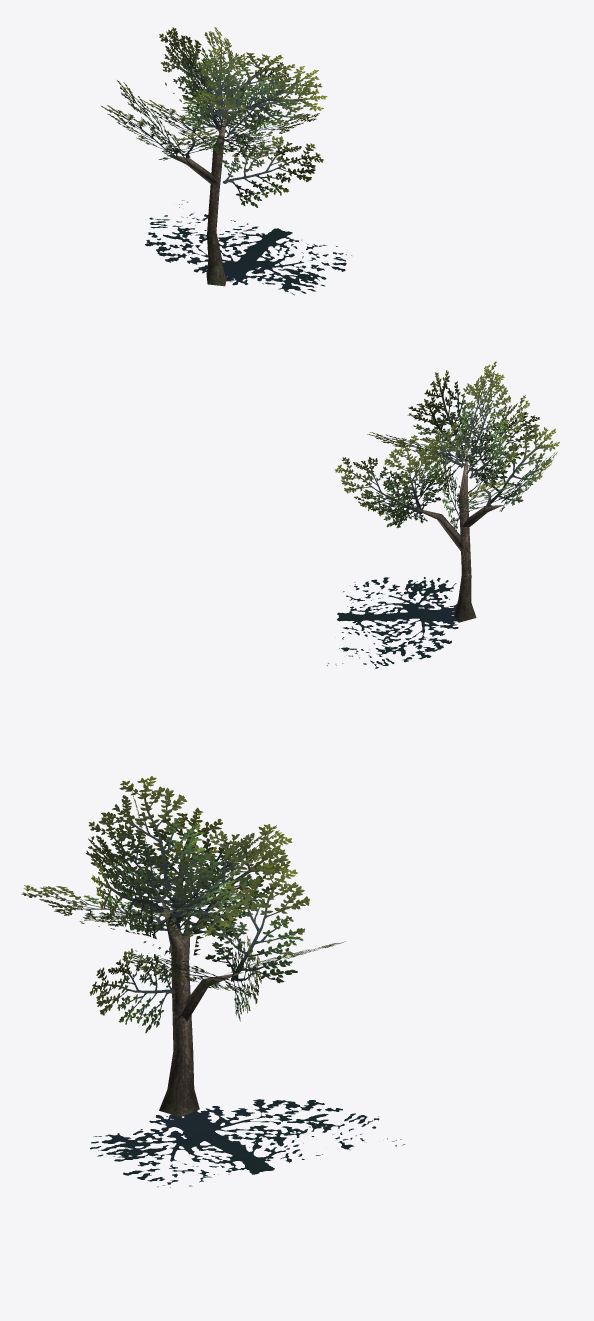
The model's file is Bf_hill_landscacp_01_addTree_01.fbx.
3 renders of one model, top to bottom at view 1: azimuth 30°, elevation 25°; view 2: azimuth 150°, elevation 25°; view 3: azimuth 270°, elevation 25°, orthographic. The views are drawn at different scales.
Parts seen in each view (by area): view 1: Bf_hill_landscacp_01_addTree_01; view 2: Bf_hill_landscacp_01_addTree_01; view 3: Bf_hill_landscacp_01_addTree_01.
Boxes of the visible parts, left/top/right/bottom form: Bf_hill_landscacp_01_addTree_01: left=101, top=27, right=351, bottom=295; Bf_hill_landscacp_01_addTree_01: left=327, top=361, right=559, bottom=668; Bf_hill_landscacp_01_addTree_01: left=21, top=776, right=405, bottom=1187.
Bounding box in the file's own units: 26.15 × 15.71 × 23.82.
3 materials, 3 textured.
